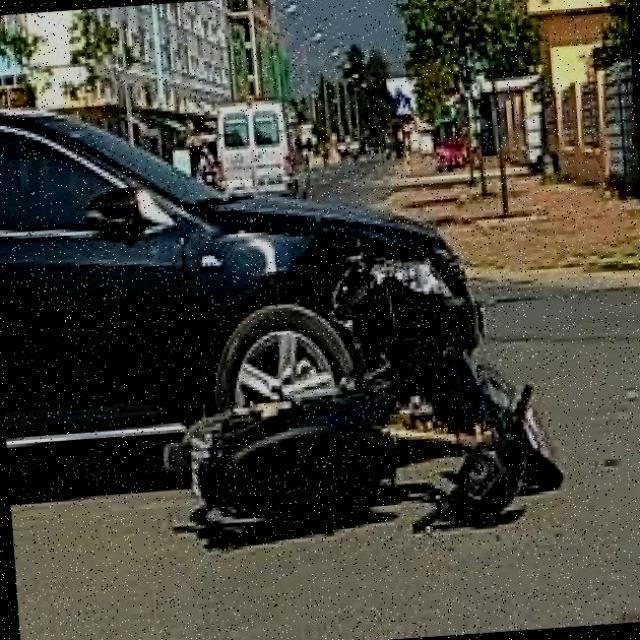accident: (140, 147, 585, 569)
